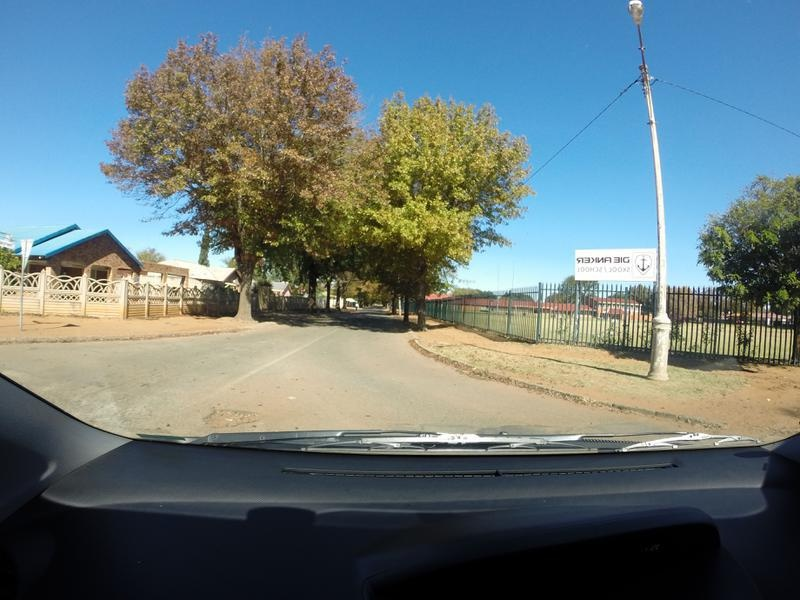pothole: (183, 390, 266, 430)
